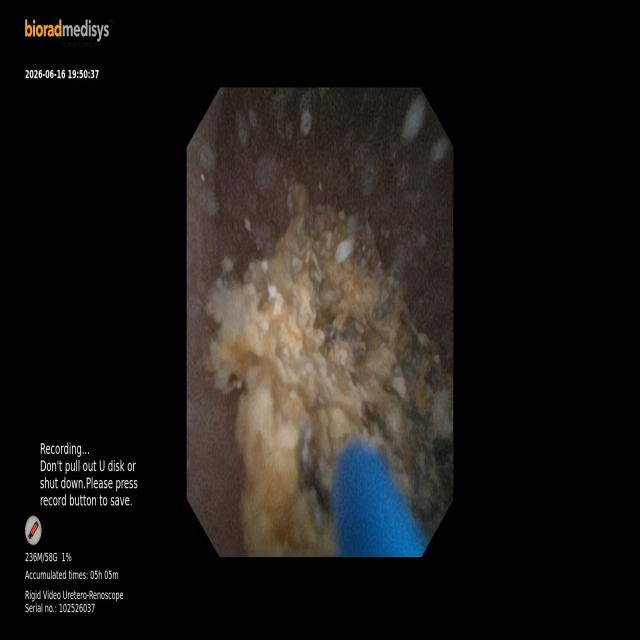stone-new: (207, 185, 452, 554)
